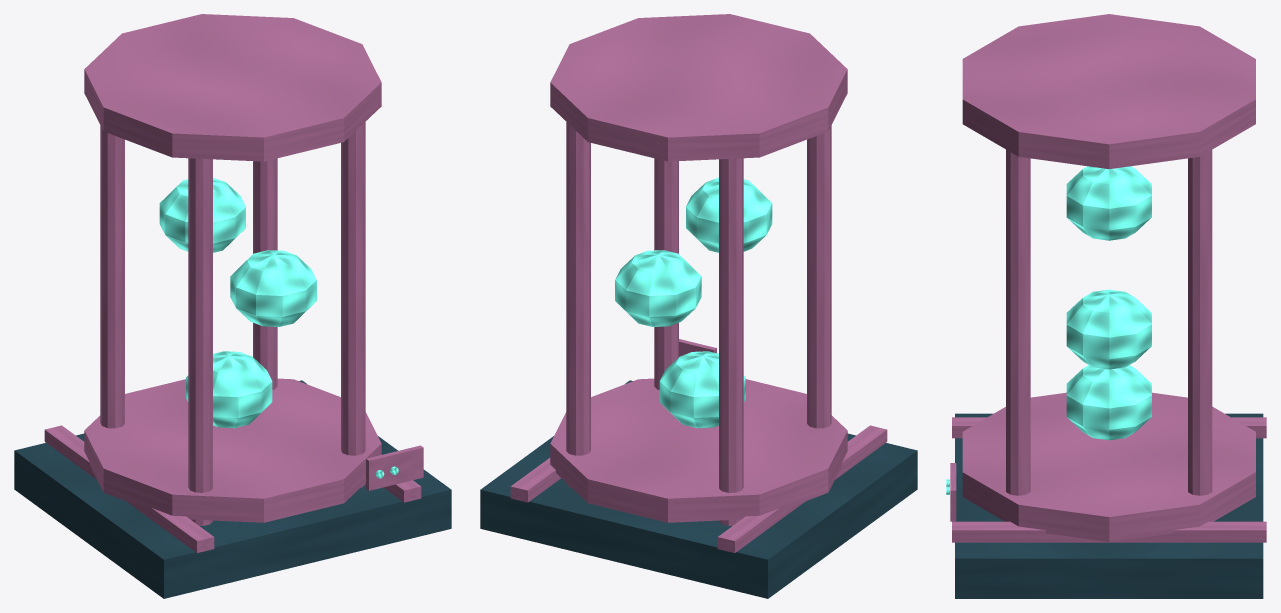
File: atlas100-s070-a01.glb
3 renders of one model, left to right at view 1: azimuth 30°, elevation 25°; view 2: azimuth 150°, elevation 25°; view 3: azimuth 270°, elevation 25°, orthographic. The views are drawn at different scales.
Visible parts, largest first — view 1: atlas100-s070-a01:part-004, atlas100-s070-a01:part-003, atlas100-s070-a01:part-000, atlas100-s070-a01:part-007, atlas100-s070-a01:part-005, atlas100-s070-a01:part-009, atlas100-s070-a01:part-014, atlas100-s070-a01:part-013, atlas100-s070-a01:part-011, atlas100-s070-a01:part-015, atlas100-s070-a01:part-001, atlas100-s070-a01:part-016; view 2: atlas100-s070-a01:part-004, atlas100-s070-a01:part-003, atlas100-s070-a01:part-000, atlas100-s070-a01:part-009, atlas100-s070-a01:part-011, atlas100-s070-a01:part-007, atlas100-s070-a01:part-014, atlas100-s070-a01:part-013, atlas100-s070-a01:part-005, atlas100-s070-a01:part-015, atlas100-s070-a01:part-001, atlas100-s070-a01:part-002; view 3: atlas100-s070-a01:part-004, atlas100-s070-a01:part-003, atlas100-s070-a01:part-000, atlas100-s070-a01:part-011, atlas100-s070-a01:part-005, atlas100-s070-a01:part-014, atlas100-s070-a01:part-015, atlas100-s070-a01:part-013, atlas100-s070-a01:part-002, atlas100-s070-a01:part-001.
Part boxes in pixels (box(x1,y1,x2,y2)): atlas100-s070-a01:part-004: box(84, 14, 381, 161); atlas100-s070-a01:part-003: box(84, 378, 381, 522); atlas100-s070-a01:part-000: box(14, 380, 451, 598); atlas100-s070-a01:part-007: box(188, 158, 212, 525); atlas100-s070-a01:part-005: box(341, 122, 365, 487); atlas100-s070-a01:part-009: box(100, 125, 124, 428); atlas100-s070-a01:part-014: box(230, 250, 316, 326); atlas100-s070-a01:part-013: box(186, 351, 272, 428); atlas100-s070-a01:part-011: box(253, 158, 277, 389); atlas100-s070-a01:part-015: box(159, 177, 245, 252); atlas100-s070-a01:part-001: box(44, 425, 214, 552); atlas100-s070-a01:part-016: box(366, 445, 423, 490); atlas100-s070-a01:part-004: box(550, 14, 847, 161); atlas100-s070-a01:part-003: box(550, 378, 847, 522); atlas100-s070-a01:part-000: box(480, 380, 917, 598); atlas100-s070-a01:part-009: box(719, 158, 743, 525); atlas100-s070-a01:part-011: box(566, 122, 590, 487); atlas100-s070-a01:part-007: box(807, 125, 831, 428); atlas100-s070-a01:part-014: box(615, 250, 701, 326); atlas100-s070-a01:part-013: box(659, 351, 745, 428); atlas100-s070-a01:part-005: box(654, 158, 678, 389); atlas100-s070-a01:part-015: box(686, 177, 772, 252); atlas100-s070-a01:part-001: box(717, 425, 887, 552); atlas100-s070-a01:part-002: box(510, 458, 560, 502); atlas100-s070-a01:part-004: box(962, 14, 1255, 169); atlas100-s070-a01:part-003: box(962, 392, 1255, 541); atlas100-s070-a01:part-000: box(955, 413, 1263, 598); atlas100-s070-a01:part-011: box(1188, 150, 1212, 495); atlas100-s070-a01:part-005: box(1006, 149, 1030, 495); atlas100-s070-a01:part-014: box(1066, 289, 1151, 369); atlas100-s070-a01:part-015: box(1066, 166, 1151, 240); atlas100-s070-a01:part-013: box(1066, 365, 1151, 440); atlas100-s070-a01:part-002: box(952, 521, 1266, 542); atlas100-s070-a01:part-001: box(952, 417, 1266, 438).
Size of the model in its own units: 2 by 2.88 by 1.87.
Materials: 3 (3 with a texture image).
